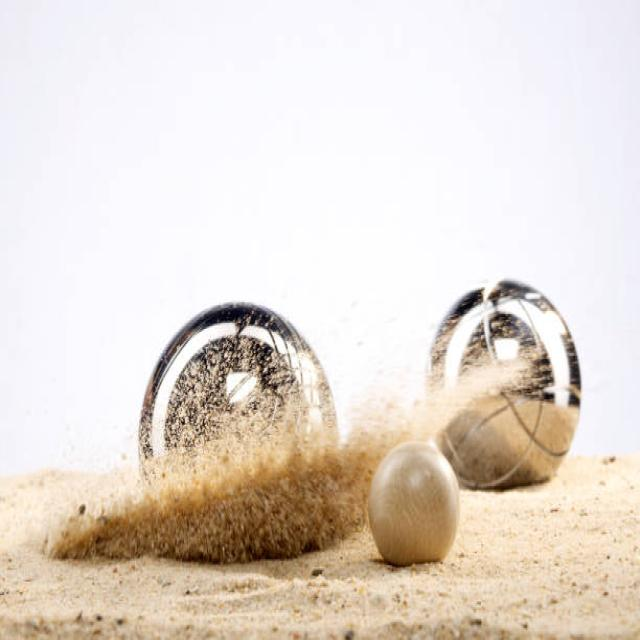hatball: (362, 435, 464, 581)
petanque: (135, 297, 346, 500), (419, 273, 583, 496)
